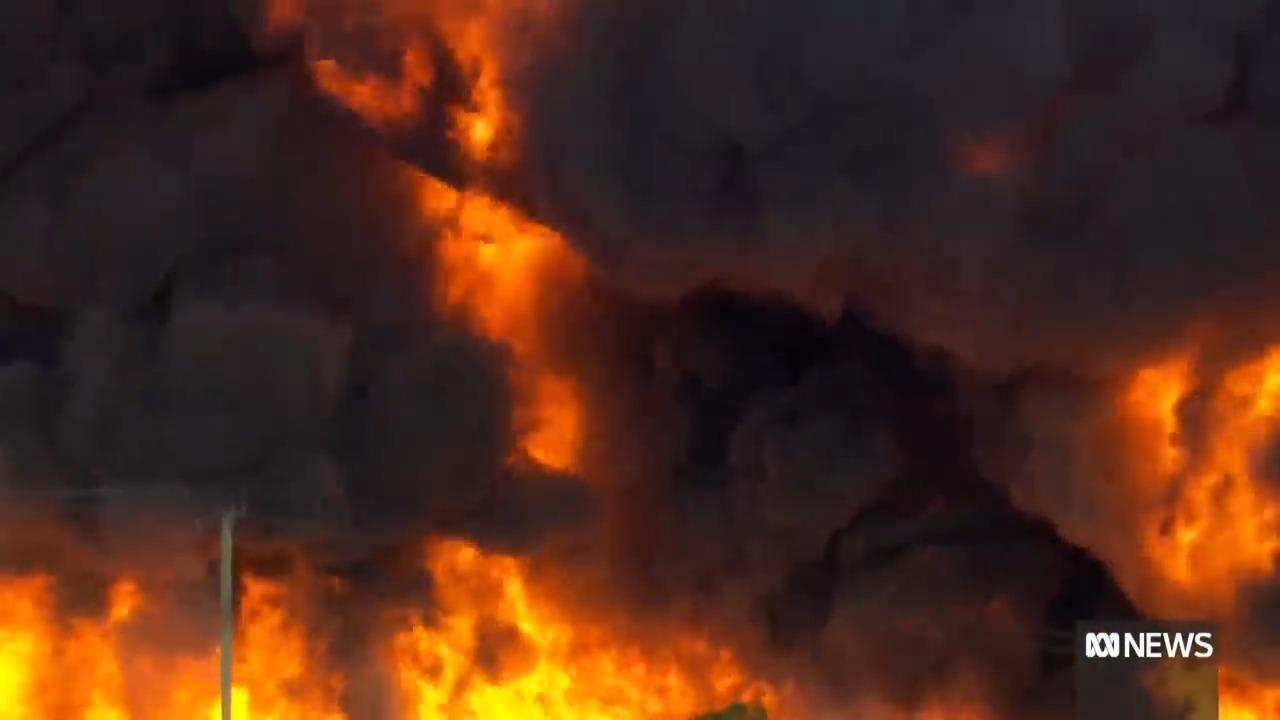fire: (1, 513, 719, 719)
